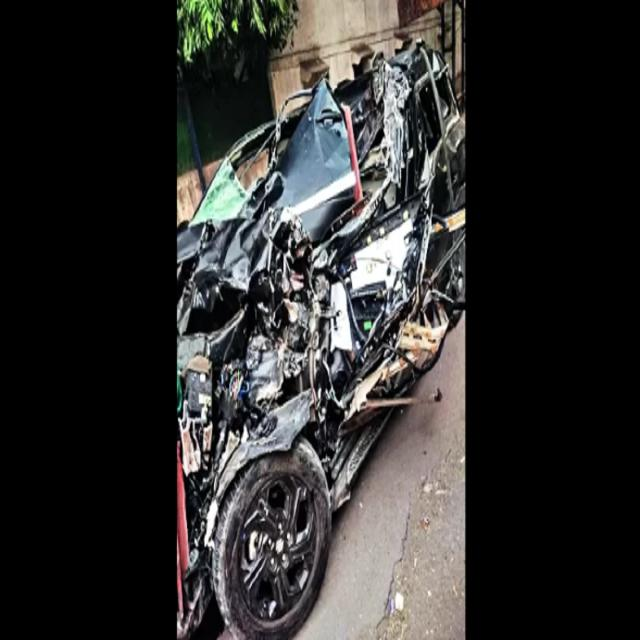accident: (176, 42, 464, 638)
